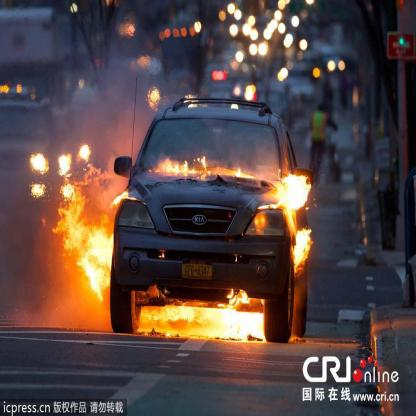fire: (24, 146, 112, 295), (142, 296, 272, 336), (151, 154, 259, 187), (258, 160, 315, 214), (285, 219, 311, 274), (106, 183, 141, 213), (143, 86, 164, 108)
other: (218, 4, 325, 81), (153, 21, 206, 40), (1, 80, 37, 100), (128, 48, 152, 74), (121, 16, 145, 34), (238, 84, 258, 102)
smoke: (84, 73, 138, 134)
